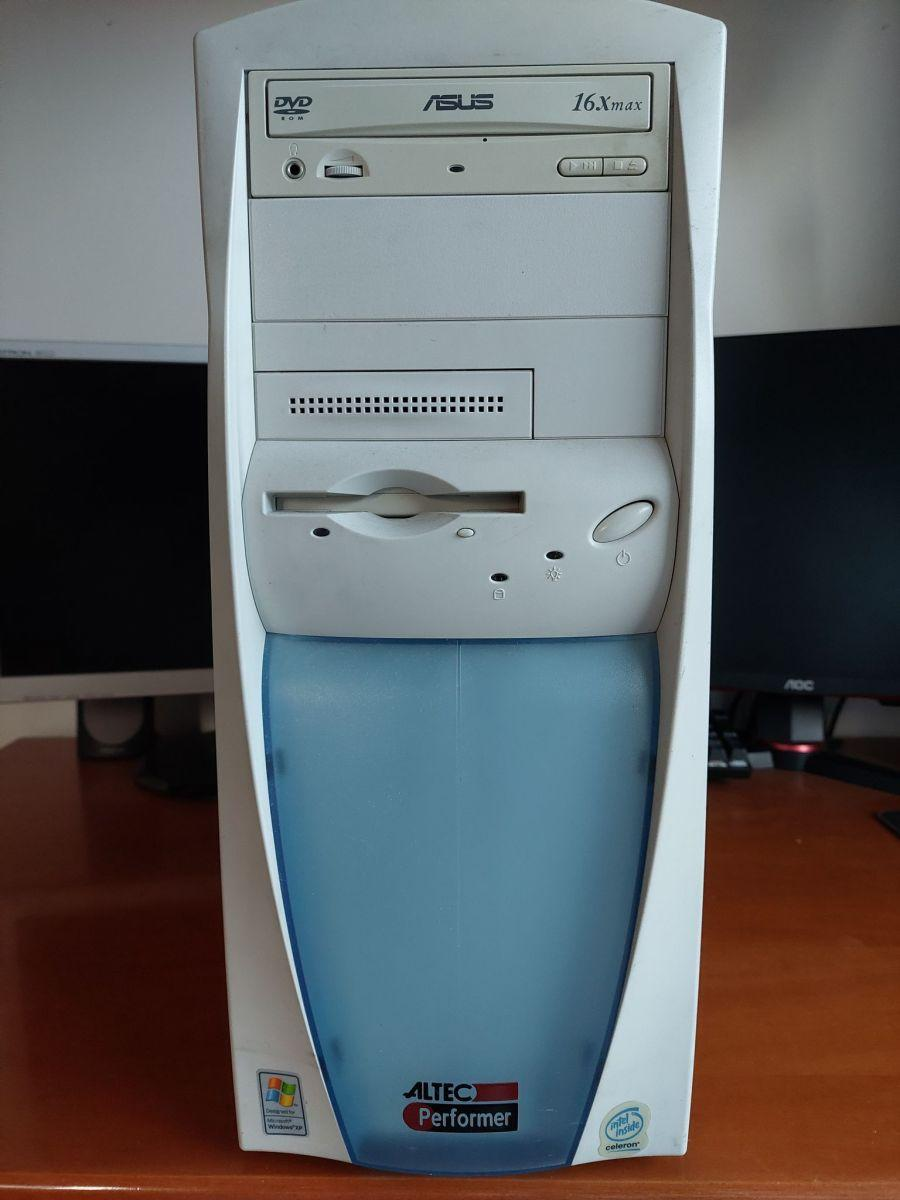DESKTOP PC: (197, 0, 721, 1164)
Monitors: (0, 336, 216, 713), (700, 319, 899, 725)
